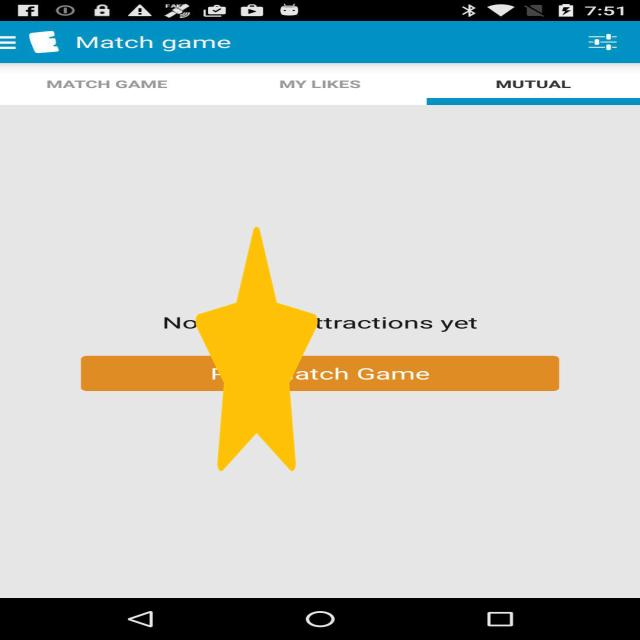forced continuity: (195, 227, 318, 471)
